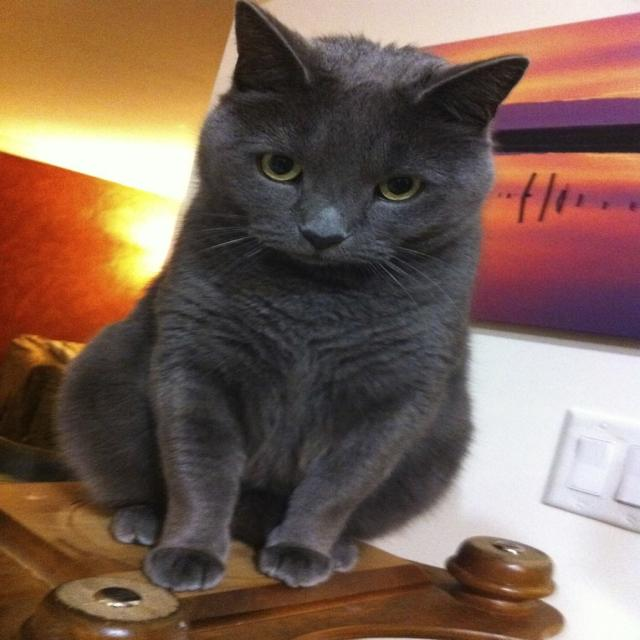Cat: (54, 0, 529, 591)
